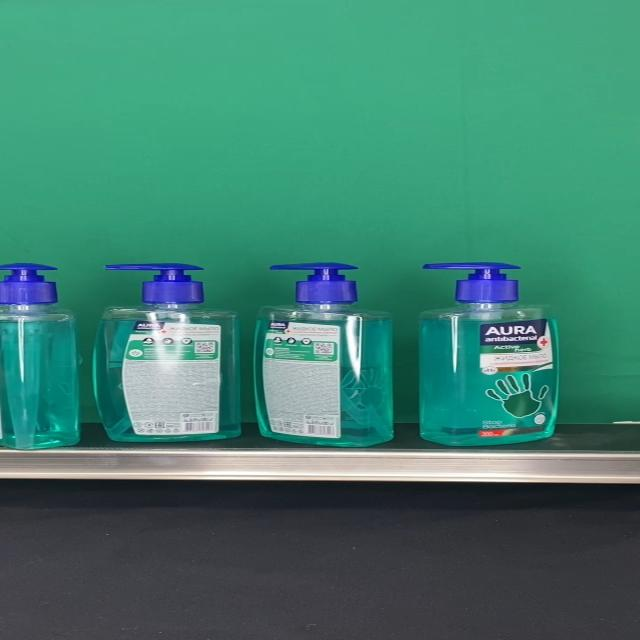Bottle: (92, 264, 241, 443), (420, 262, 560, 447), (253, 263, 393, 447)
Cap: (422, 262, 523, 304), (105, 264, 204, 305), (269, 263, 361, 305)
